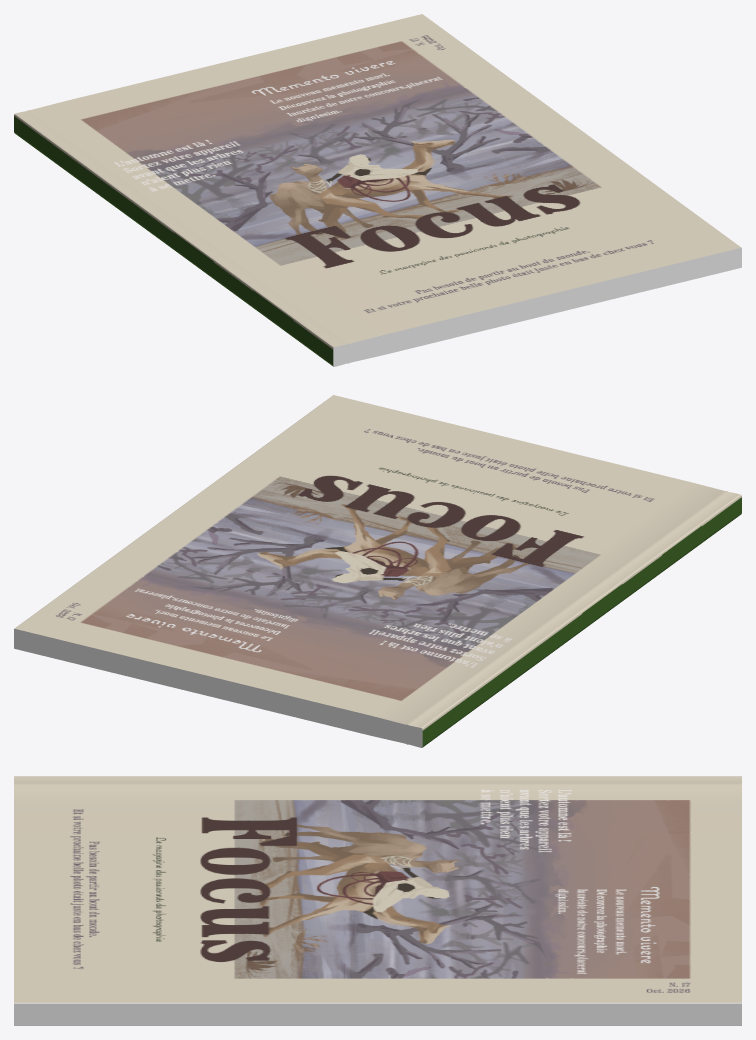
Rendered from 20260916_Magazine_V001.fbx.
3 renders of one model, top to bottom at view 1: azimuth 30°, elevation 25°; view 2: azimuth 150°, elevation 25°; view 3: azimuth 270°, elevation 25°, orthographic. The views are drawn at different scales.
Parts seen in each view (by area): view 1: egres; view 2: egres; view 3: egres.
Boxes of the visible parts, box(x1,y1,x2,y2) form: egres: box(14, 14, 741, 366); egres: box(14, 395, 741, 747); egres: box(14, 776, 741, 1025).
Size of the model in its own units: 1700 by 80 by 2300.
